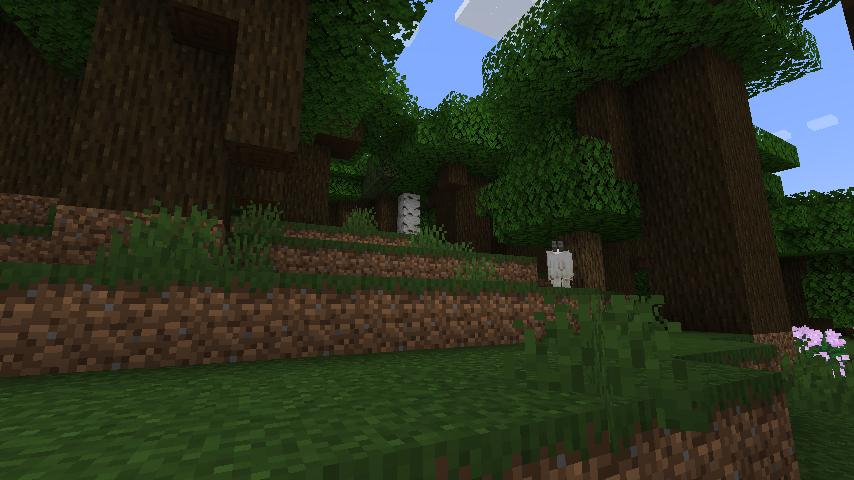goat: (543, 239, 574, 287)
